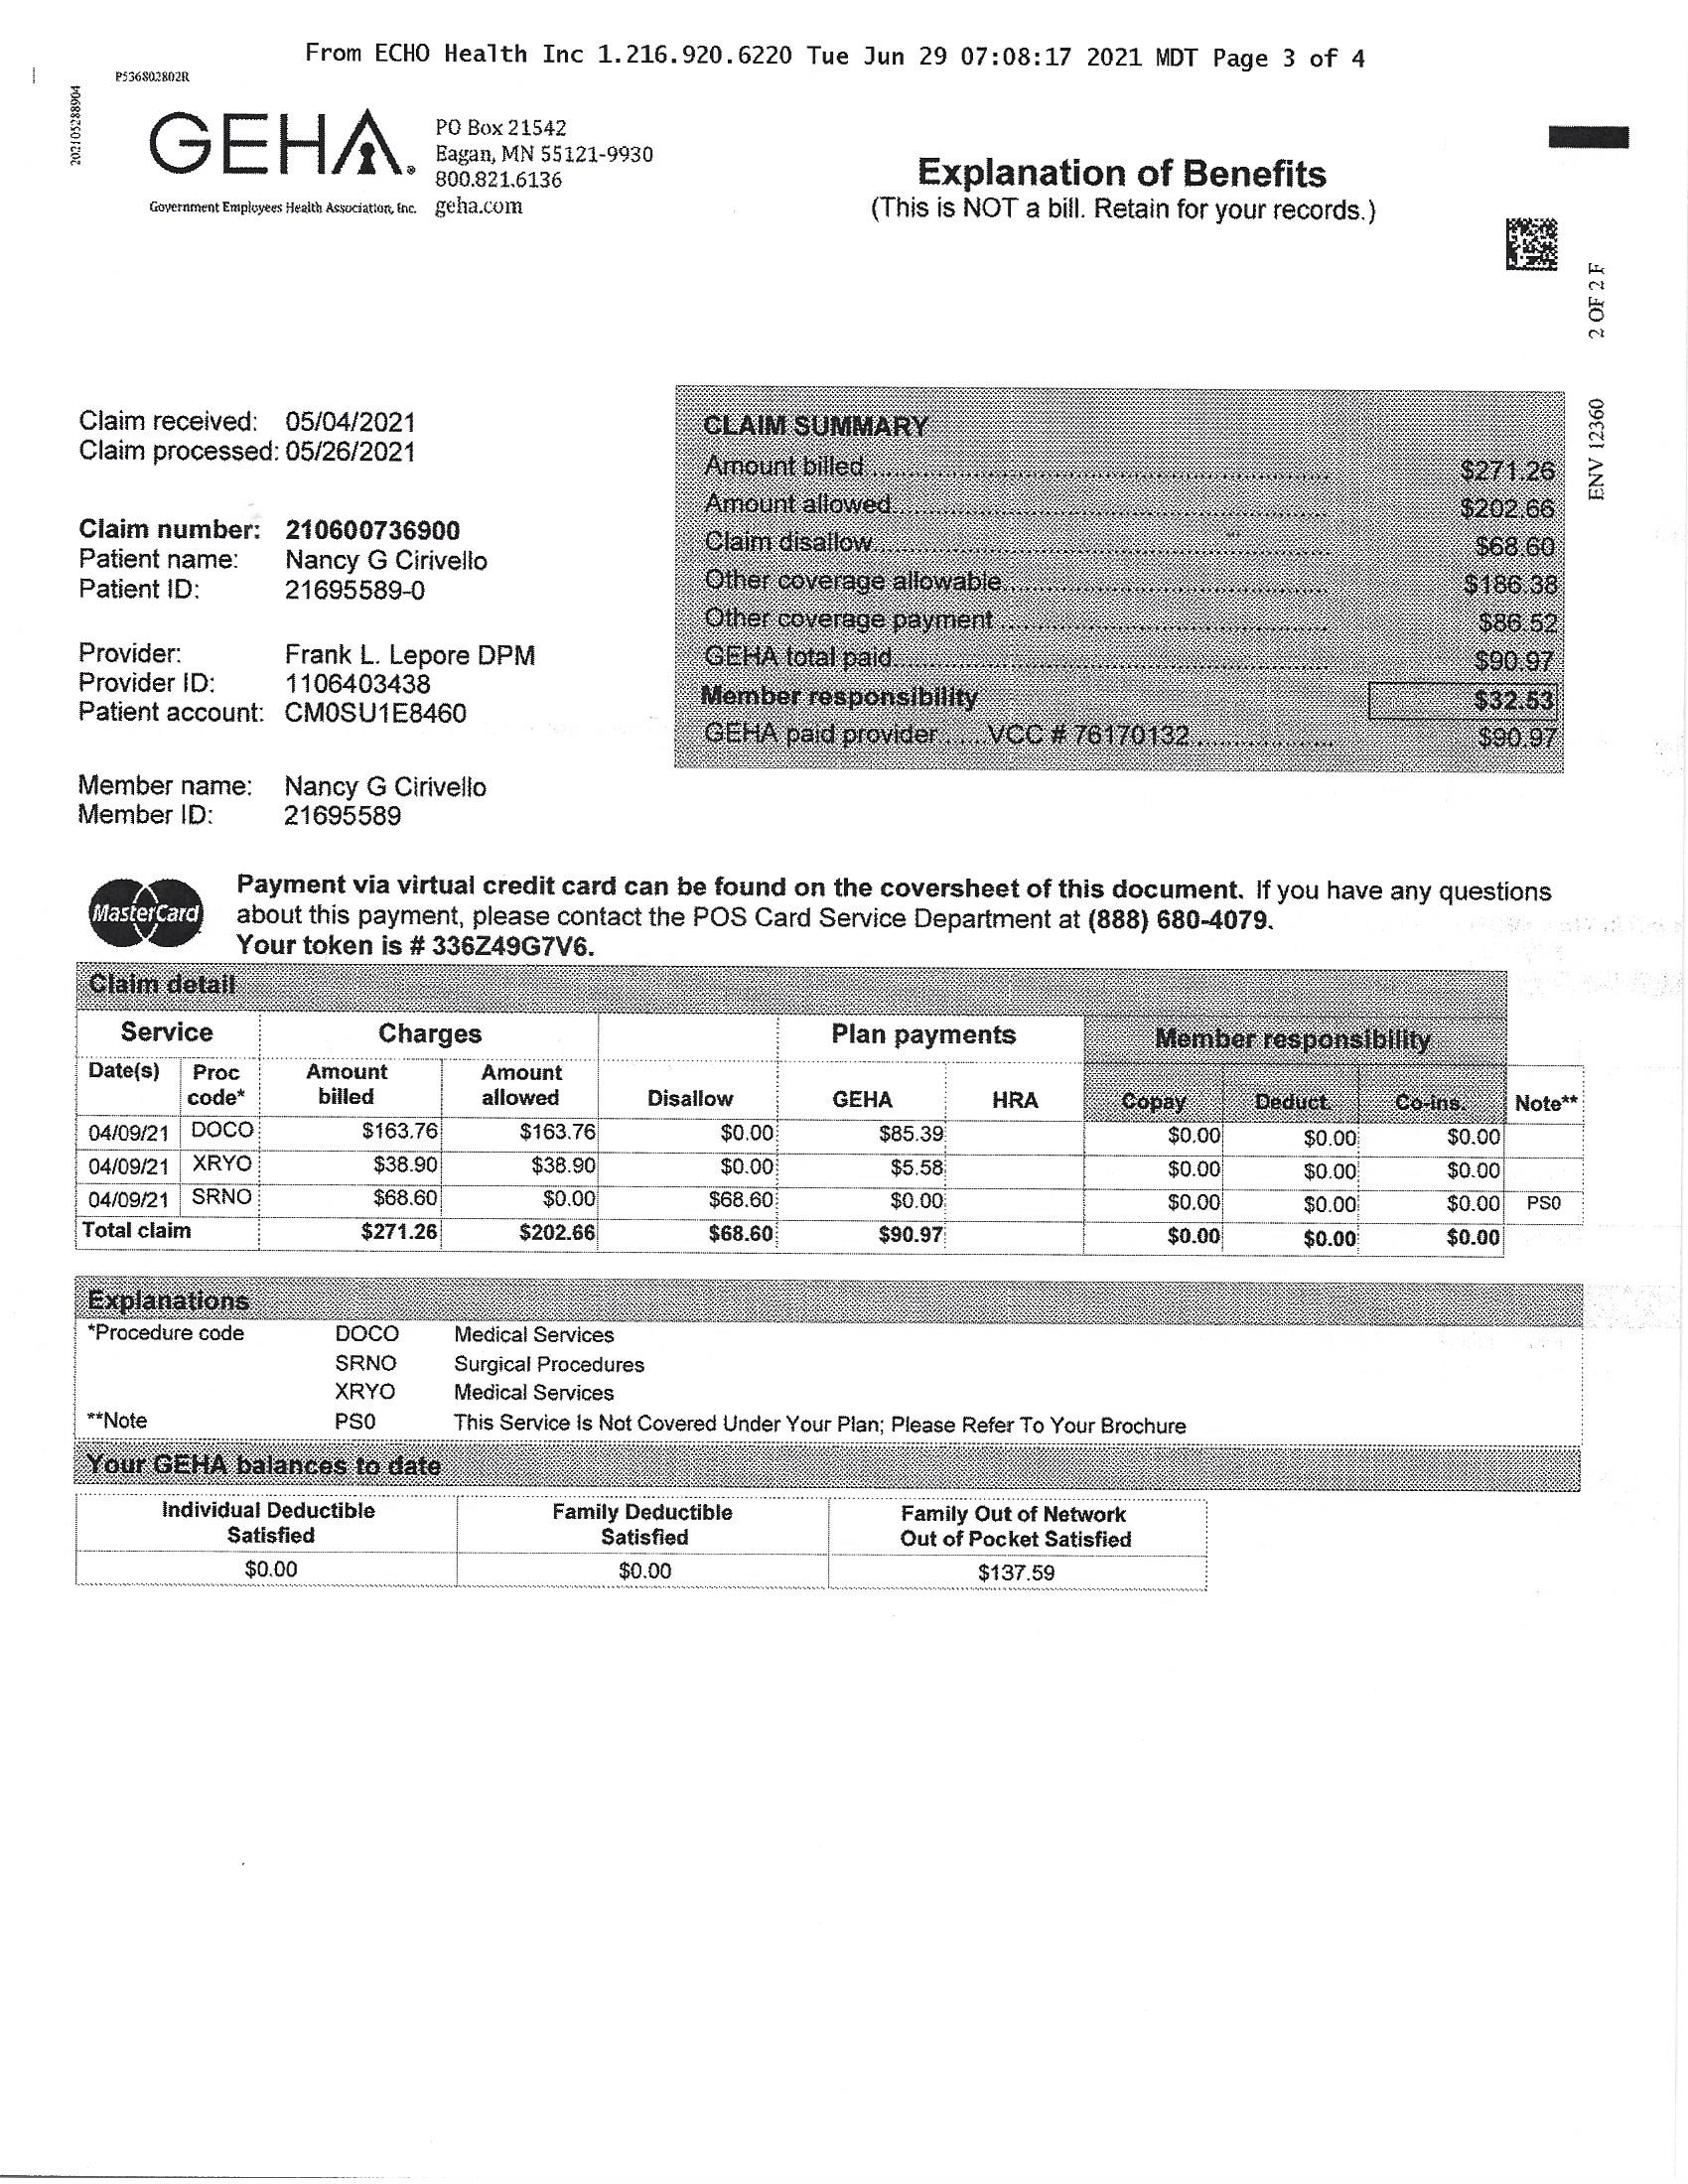data: (656, 370, 1578, 794), (55, 631, 551, 757), (62, 500, 504, 619), (69, 757, 511, 854), (57, 383, 443, 482)
table: (67, 954, 1596, 1255)
